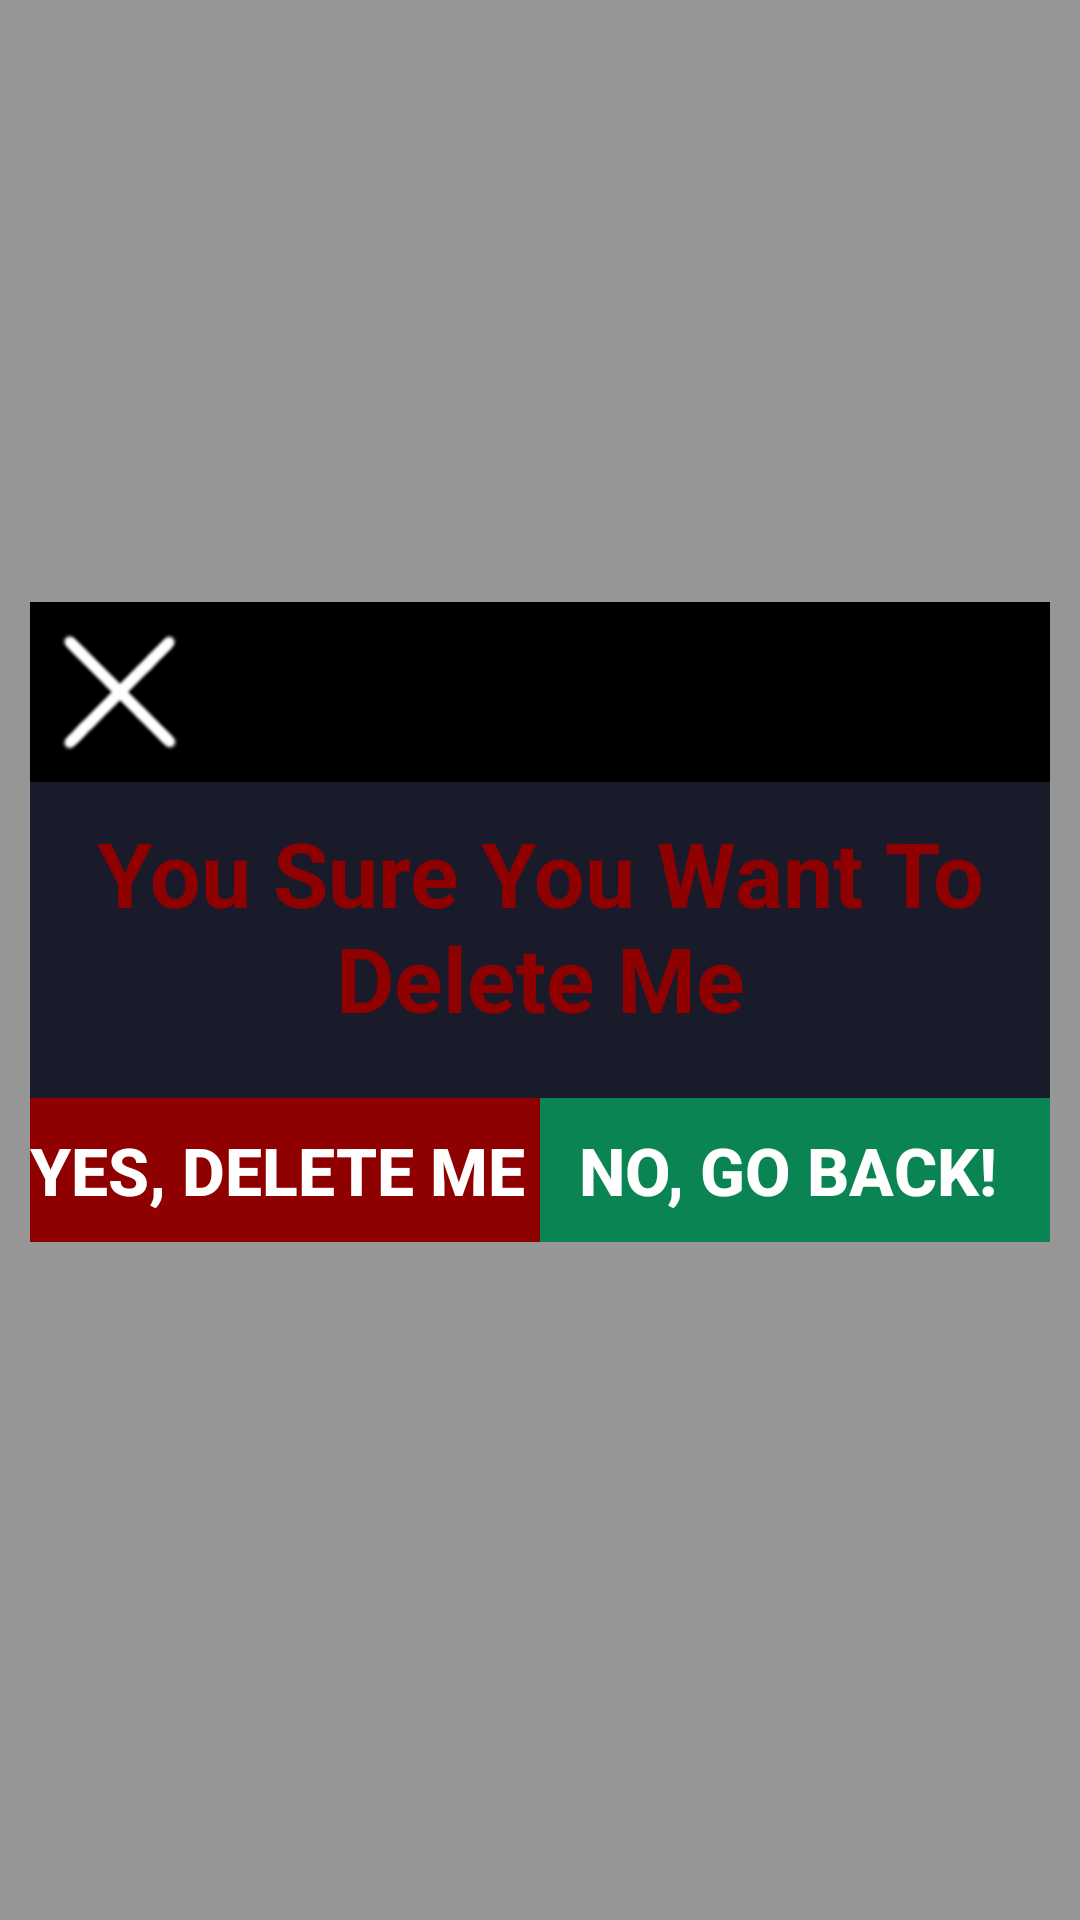

Point at icon controls on the screen. Image size 1080w x 1920h, points as [x,y].
close mark: [119,692]
